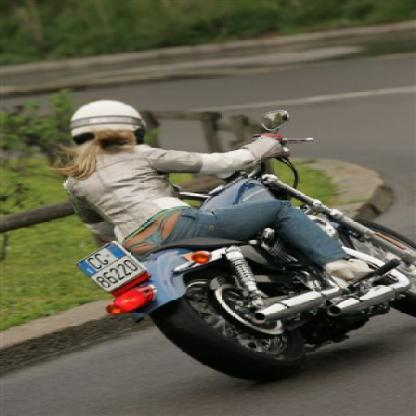Helmet: (67, 99, 149, 146)
